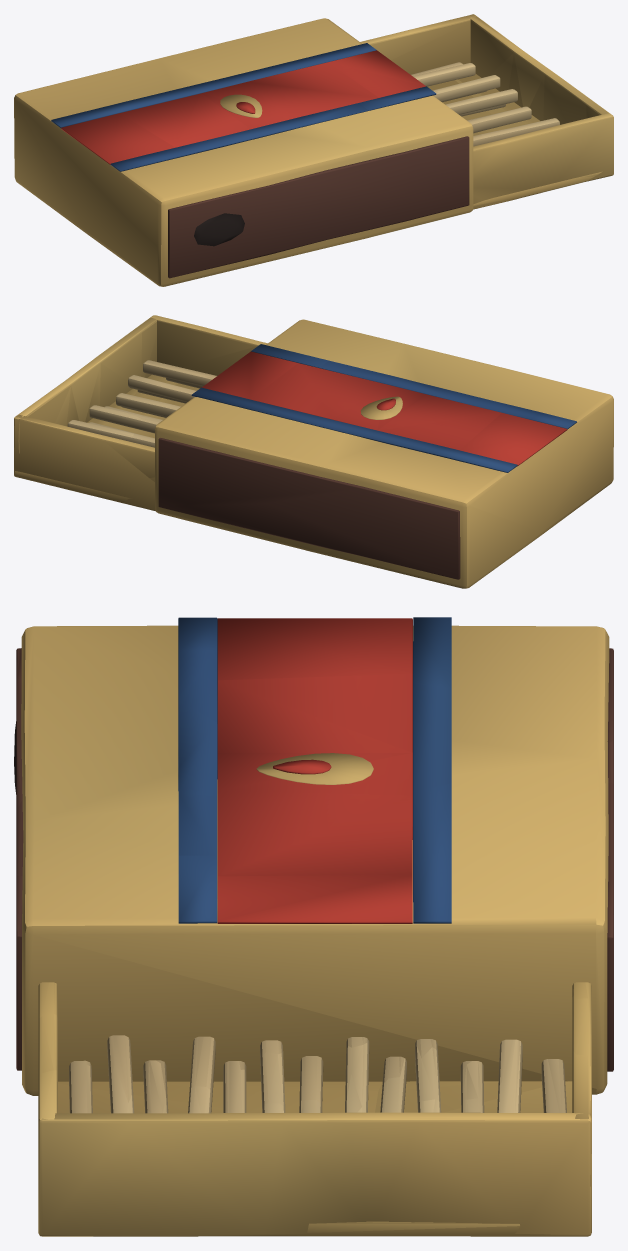
Rendered from ember_matchbox_lod1.glb.
3 views of the same model, one above another, from view 1: azimuth 30°, elevation 25°; view 2: azimuth 150°, elevation 25°; view 3: azimuth 270°, elevation 25° (orthographic). The views are drawn at different scales.
Visible parts, largest first — view 1: ember_matchbox.001; view 2: ember_matchbox.001; view 3: ember_matchbox.001.
Boxes of the visible parts, <box> form: ember_matchbox.001: <box>14,14,613,286</box>; ember_matchbox.001: <box>14,315,613,588</box>; ember_matchbox.001: <box>14,617,613,1236</box>.
Size of the model in its own units: 32.09 by 6.27 by 18.42.
